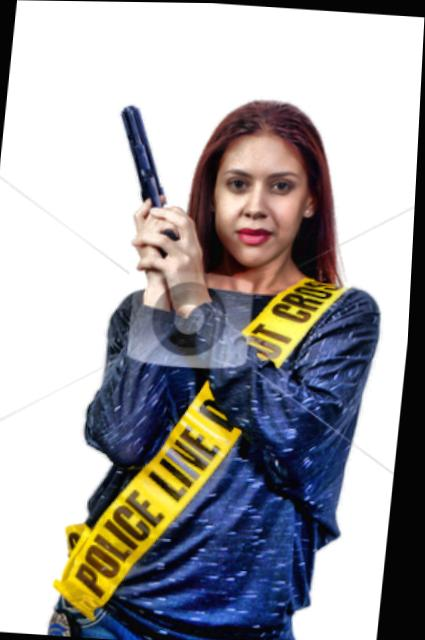pistol: (105, 99, 195, 264)
